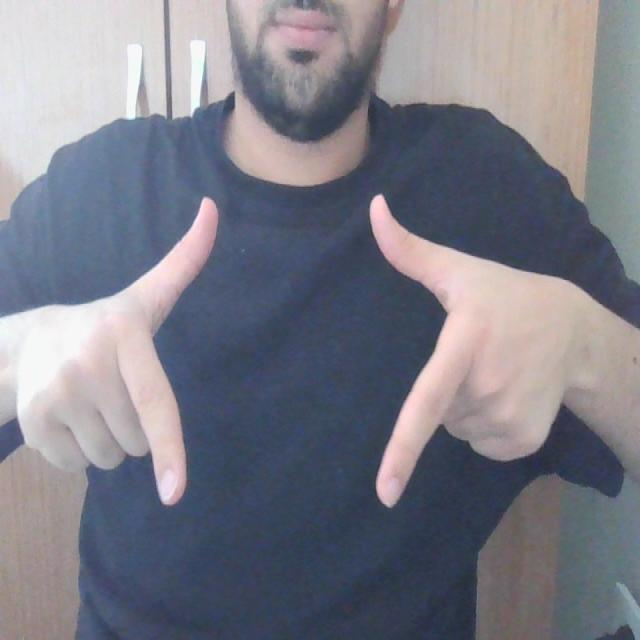Nerede: (116, 184, 482, 513)
